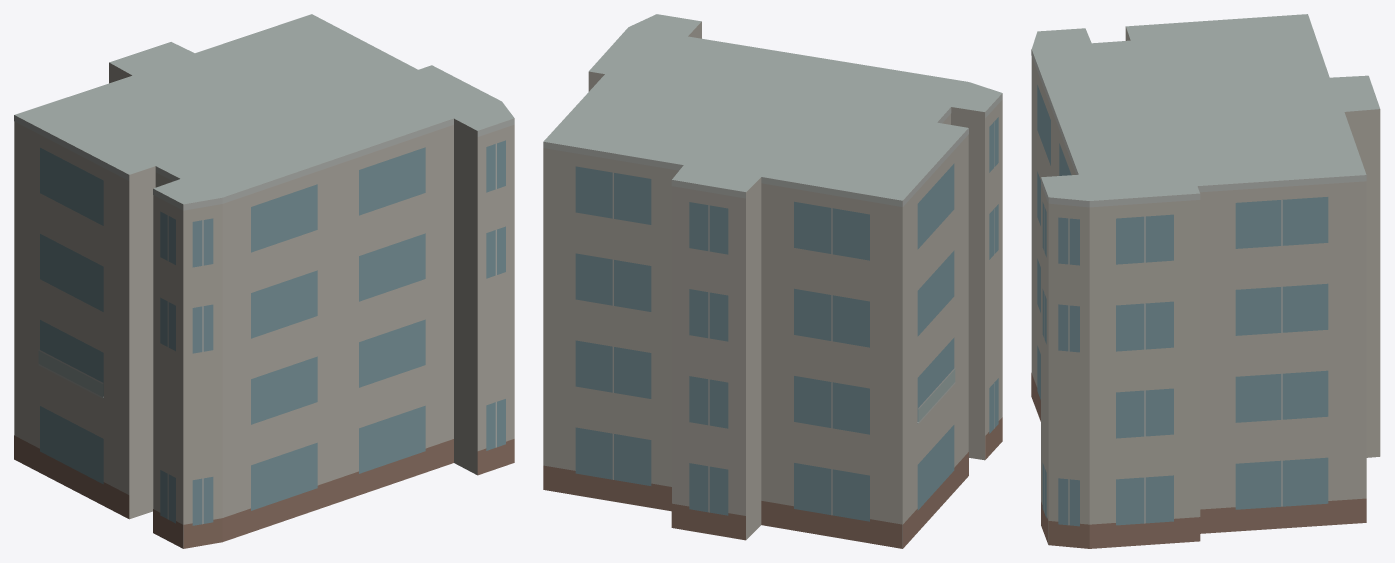
The model's file is survey-upis-32940951.glb.
3 views of the same model, side by side, from view 1: azimuth 30°, elevation 25°; view 2: azimuth 150°, elevation 25°; view 3: azimuth 270°, elevation 25° (orthographic).
Parts seen in each view (by area): view 1: survey-upis-32940951.tmp; view 2: survey-upis-32940951.tmp; view 3: survey-upis-32940951.tmp.
Boxes of the visible parts, x1,y1,x2,y2 form: survey-upis-32940951.tmp: (14,14,514,548); survey-upis-32940951.tmp: (543,14,1002,548); survey-upis-32940951.tmp: (1031,14,1380,548).
Bounding box in the file's own units: 15.47 × 13.4 × 12.19.
